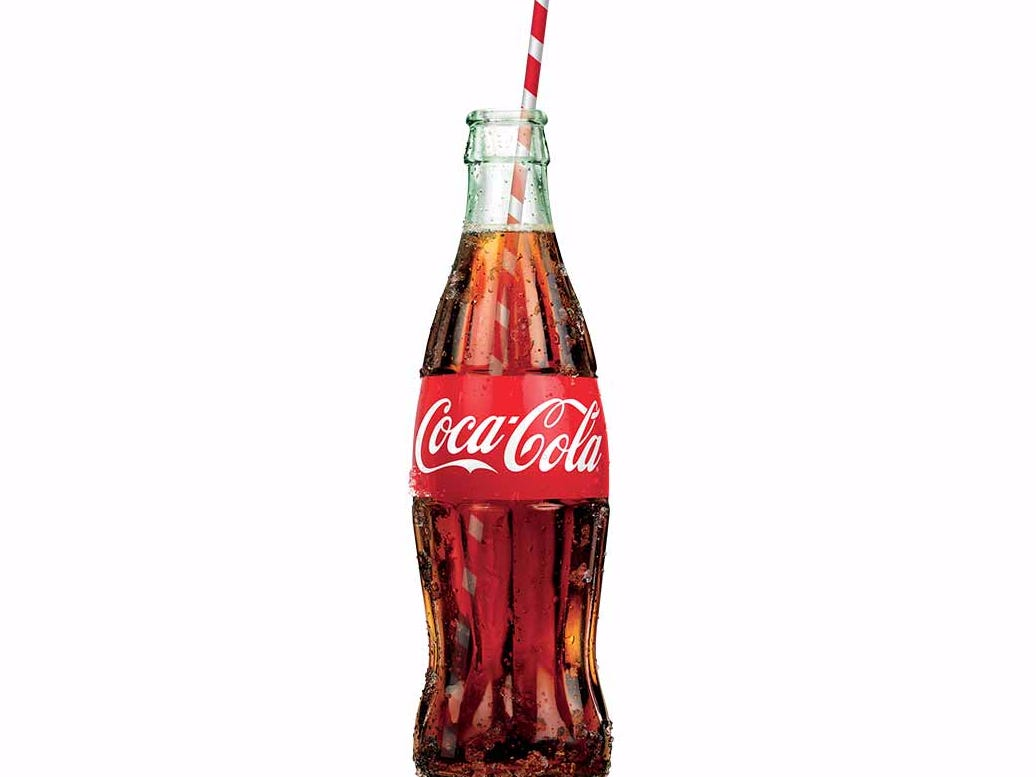Coca-Cola: (396, 88, 630, 770)
